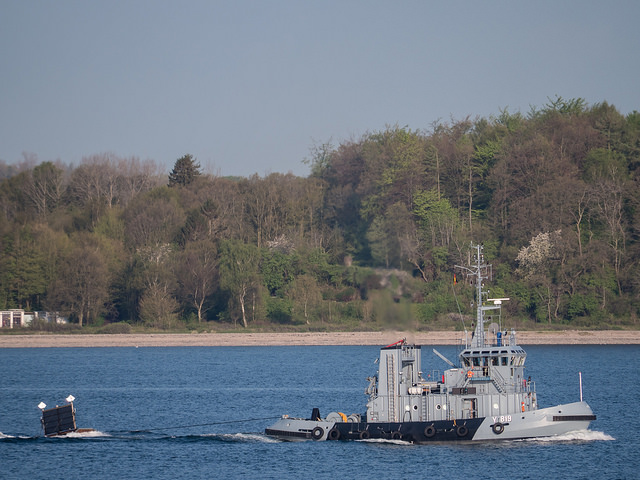tug_boat: (263, 232, 601, 454)
